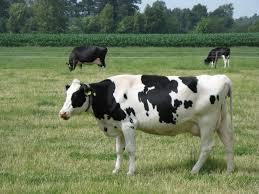cow: (59, 74, 234, 176), (66, 46, 108, 72), (204, 47, 230, 68)
